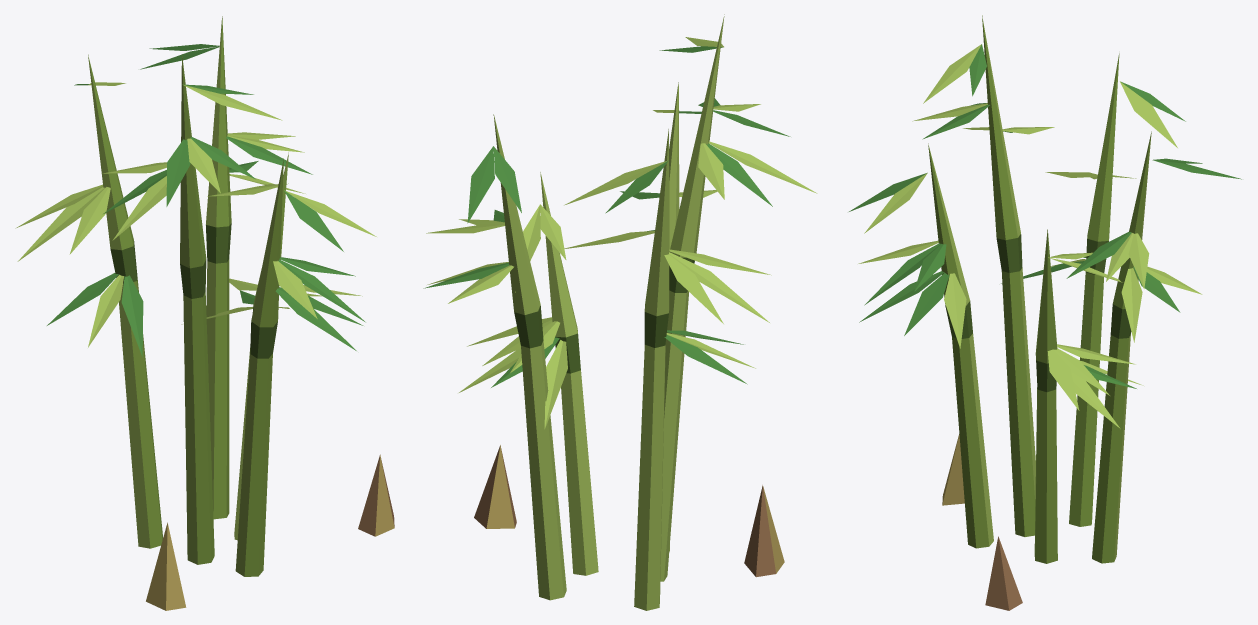
Rendered from bamboo_young.fbx.
3 renders of one model, left to right at view 1: azimuth 30°, elevation 25°; view 2: azimuth 150°, elevation 25°; view 3: azimuth 270°, elevation 25°, orthographic. The views are drawn at different scales.
Parts seen in each view (by area): view 1: bamboo_young; view 2: bamboo_young; view 3: bamboo_young.
Part boxes in pixels (x1=…): bamboo_young: x1=15, y1=16, x2=394, y2=610; bamboo_young: x1=423, y1=14, x2=817, y2=610; bamboo_young: x1=849, y1=15, x2=1241, y2=610.
Bounding box in the file's own units: 1.62 × 2.5 × 1.8.
